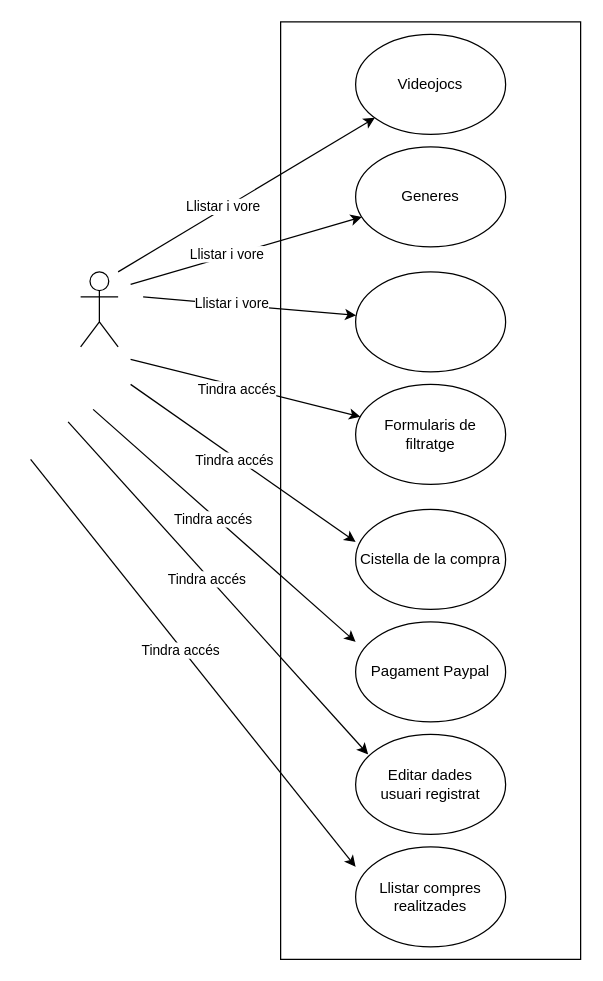
This 603x981 diagram has some shape labels left out. The shapes that lost their labels are listed below. From the top down, each one's centre as x and y in pixels, then its label:
At point 98,309: "Usuari Registrat".
At point 430,321: "Plataformes".
